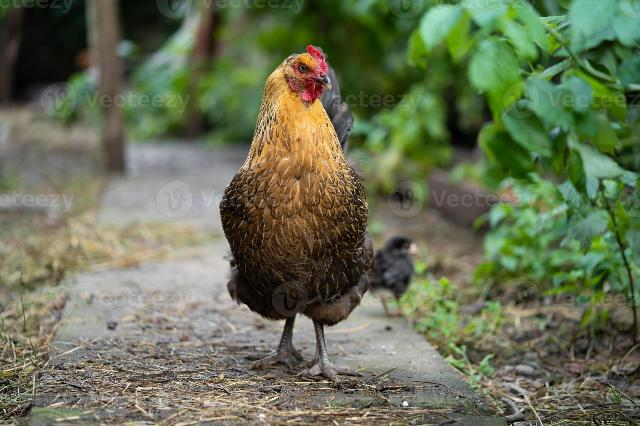Chicken: (220, 46, 375, 383)
